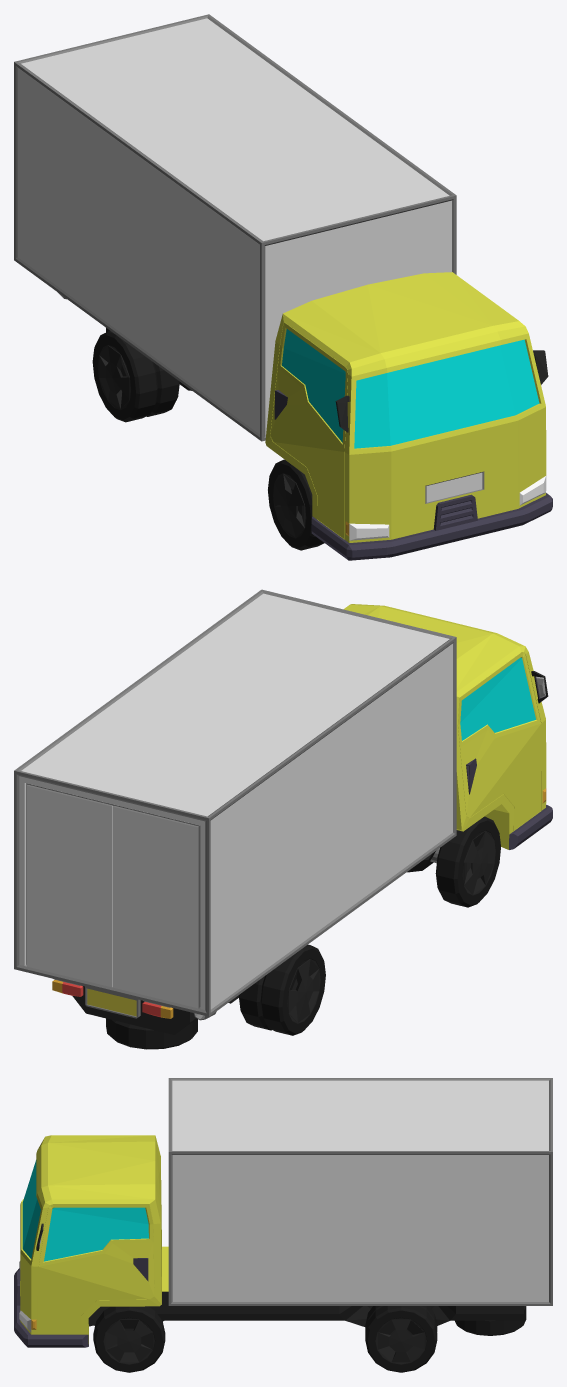
File: Lorry_LODs.fbx
3 views of the same model, one above another, from view 1: azimuth 30°, elevation 25°; view 2: azimuth 150°, elevation 25°; view 3: azimuth 270°, elevation 25° (orthographic). The views are drawn at different scales.
Parts seen in each view (by area): view 1: Chassis_LOD0, WheelsBack_LOD0, WheelsFront_LOD0; view 2: Chassis_LOD0, WheelsBack_LOD0, WheelsFront_LOD0; view 3: Chassis_LOD0, WheelsBack_LOD0, WheelsFront_LOD0.
Part boxes in pixels (bbox=[...]): Chassis_LOD0: bbox=[14, 14, 552, 560]; WheelsBack_LOD0: bbox=[92, 331, 179, 422]; WheelsFront_LOD0: bbox=[268, 459, 324, 550]; Chassis_LOD0: bbox=[14, 589, 552, 1049]; WheelsBack_LOD0: bbox=[238, 944, 325, 1035]; WheelsFront_LOD0: bbox=[430, 816, 500, 907]; Chassis_LOD0: bbox=[14, 1078, 552, 1347]; WheelsBack_LOD0: bbox=[365, 1306, 437, 1372]; WheelsFront_LOD0: bbox=[93, 1306, 165, 1372].
Size of what is drawn, in the model's own units: 273 by 360 by 789.
